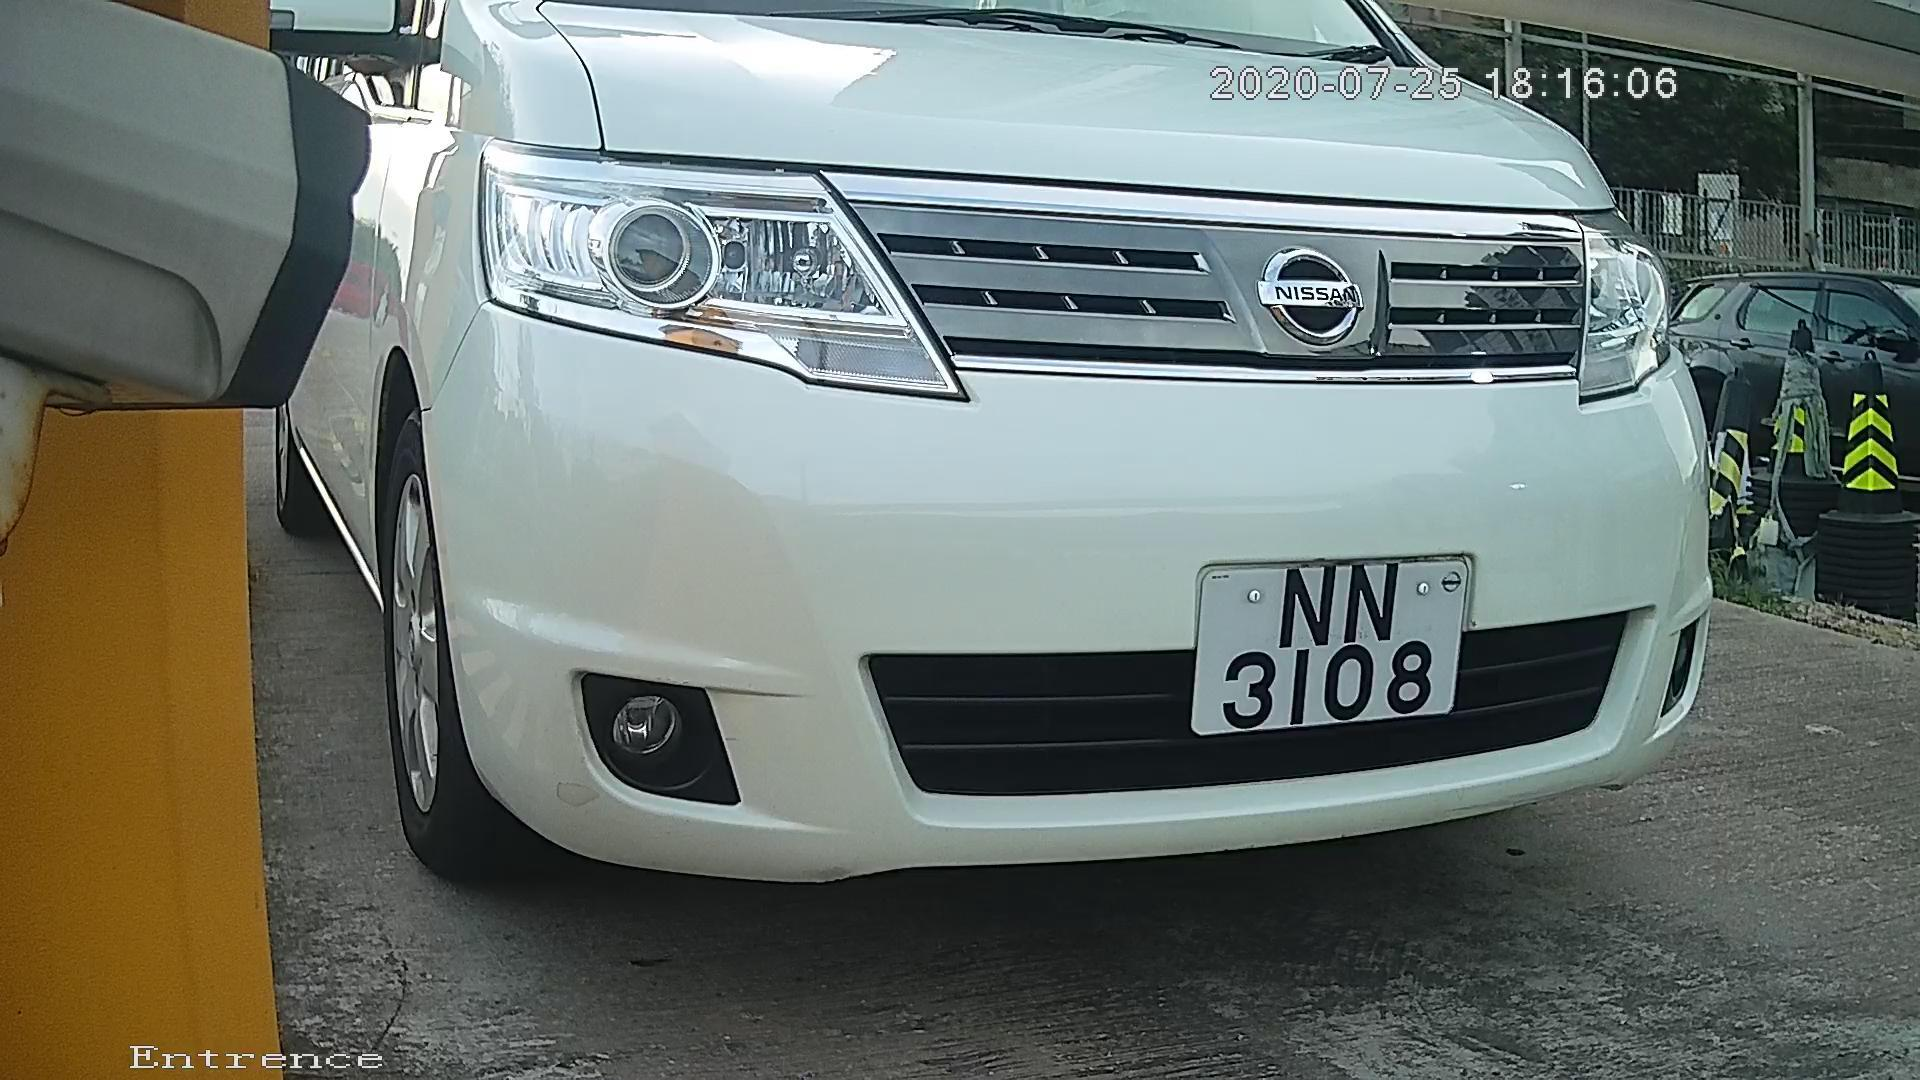privatecar: (291, 40, 1801, 926)
